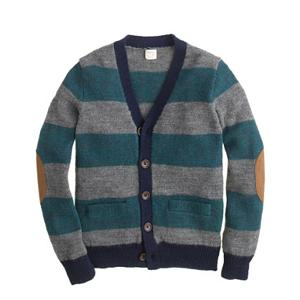C_cardigan sweater: (31, 40, 279, 286)
